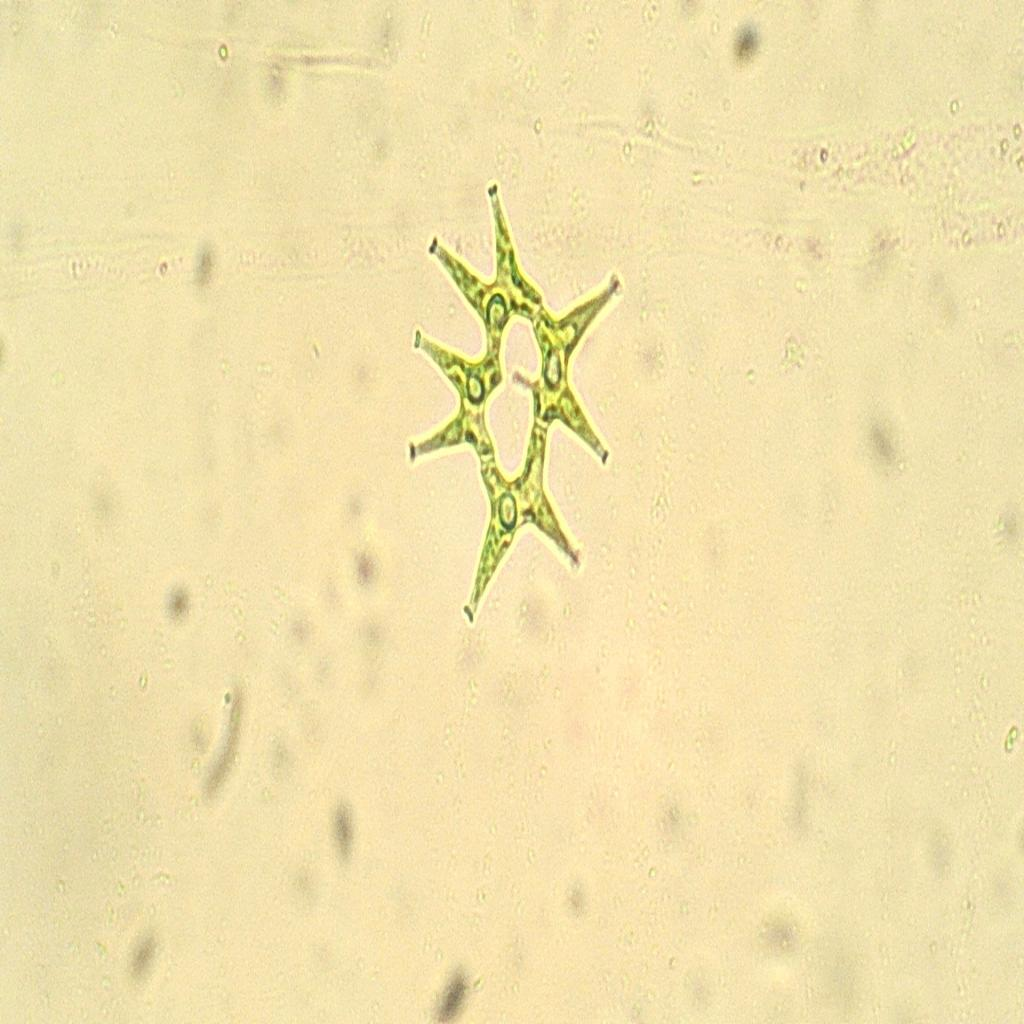Pediastrum_CF: (397, 153, 626, 655)
